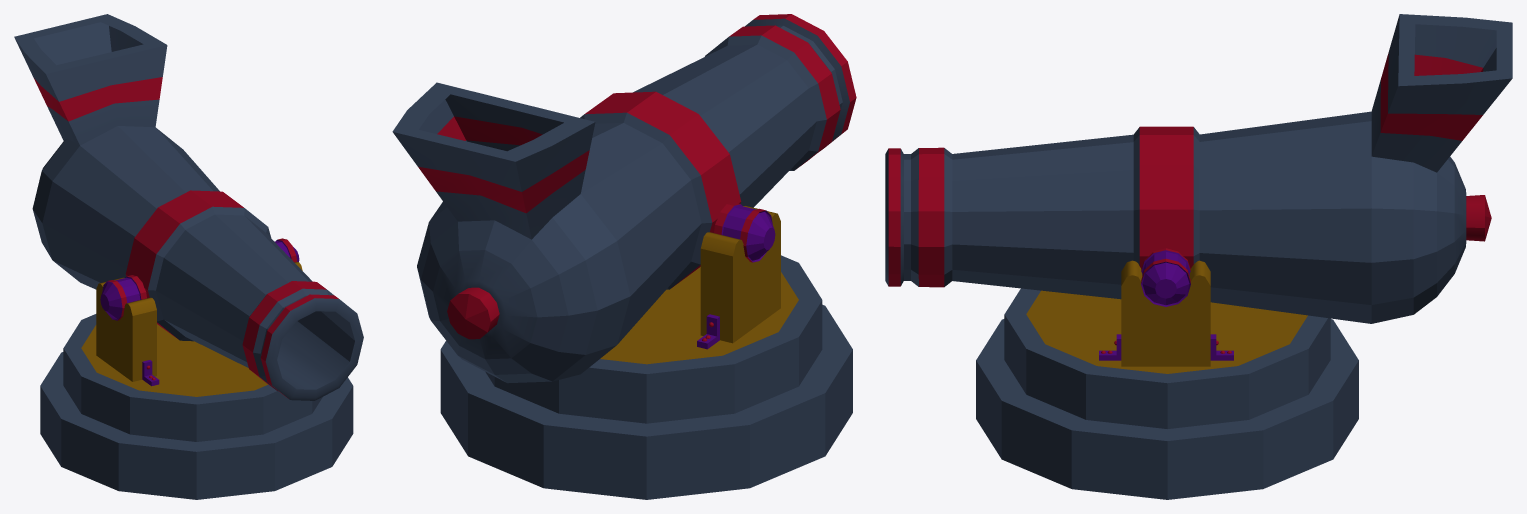
Rendered from cañon2.fbx.
3 views of the same model, side by side, from view 1: azimuth 30°, elevation 25°; view 2: azimuth 150°, elevation 25°; view 3: azimuth 270°, elevation 25° (orthographic). The views are drawn at different scales.
Parts seen in each view (by area): view 1: pCylinder3, pCylinder5, pCylinder4, polySurface13; view 2: pCylinder3, pCylinder5, pCylinder4, polySurface13; view 3: pCylinder3, pCylinder5, pCylinder4, polySurface12.
Boxes of the visible parts, x1,y1,x2,y2 form: pCylinder3: (14, 14, 363, 400); pCylinder5: (40, 352, 353, 499); pCylinder4: (63, 314, 322, 441); polySurface13: (96, 275, 159, 386); pCylinder3: (392, 14, 856, 383); pCylinder5: (440, 304, 852, 499); pCylinder4: (485, 255, 822, 423); polySurface13: (697, 202, 780, 349); pCylinder3: (885, 14, 1512, 323); pCylinder5: (976, 319, 1358, 499); pCylinder4: (1004, 288, 1330, 428); polySurface12: (1099, 248, 1233, 366).
Bounding box in the file's own units: 4.3 × 4.6 × 7.04.
